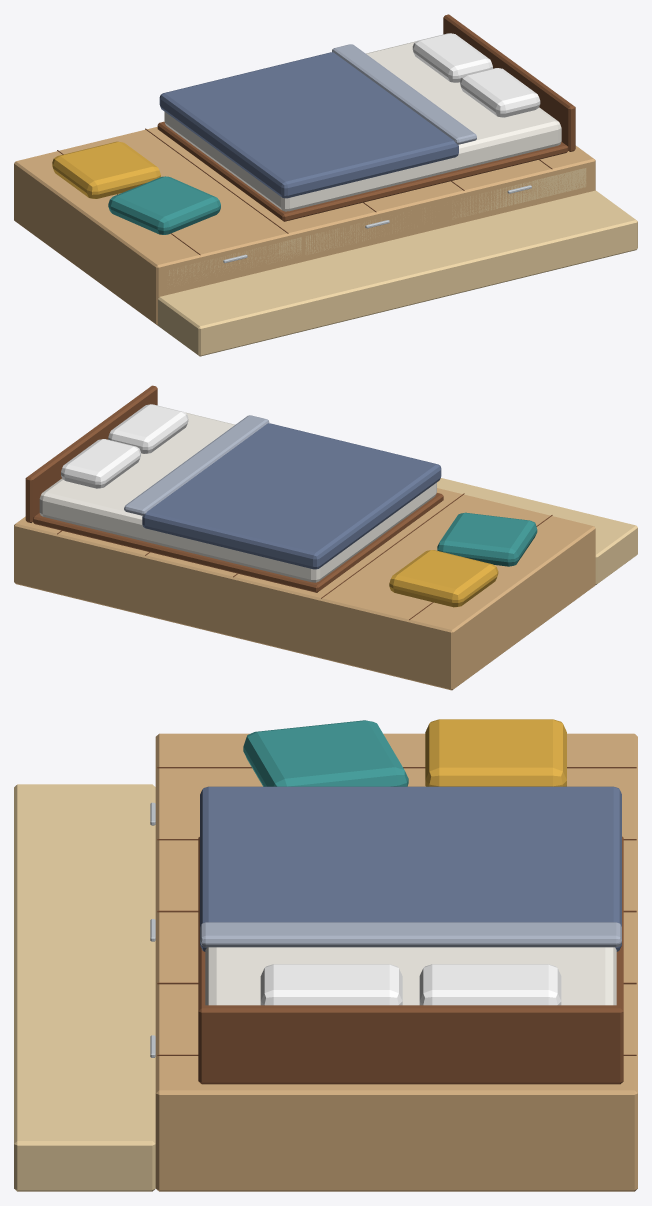
File: platform_bed_podium.glb
3 views of the same model, one above another, from view 1: azimuth 30°, elevation 25°; view 2: azimuth 150°, elevation 25°; view 3: azimuth 270°, elevation 25° (orthographic). The views are drawn at different scales.
Visible parts, largest first — view 1: platform_bed_podium_Body; view 2: platform_bed_podium_Body; view 3: platform_bed_podium_Body.
Part boxes in pixels (left/top/right/bottom): platform_bed_podium_Body: left=14, top=14, right=637, bottom=356; platform_bed_podium_Body: left=14, top=385, right=637, bottom=690; platform_bed_podium_Body: left=14, top=719, right=637, bottom=1191.
Bounding box in the file's own units: 3 × 0.7 × 2.2.
